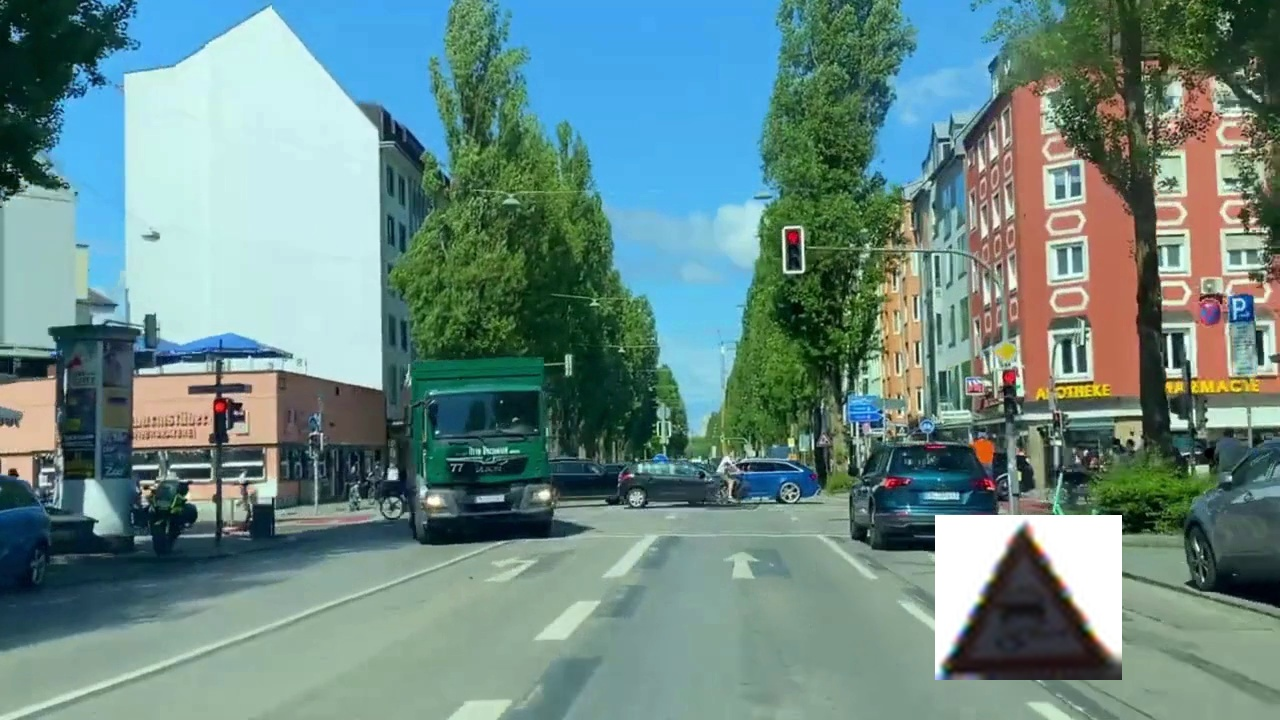Slippery: (935, 515, 1122, 680)
